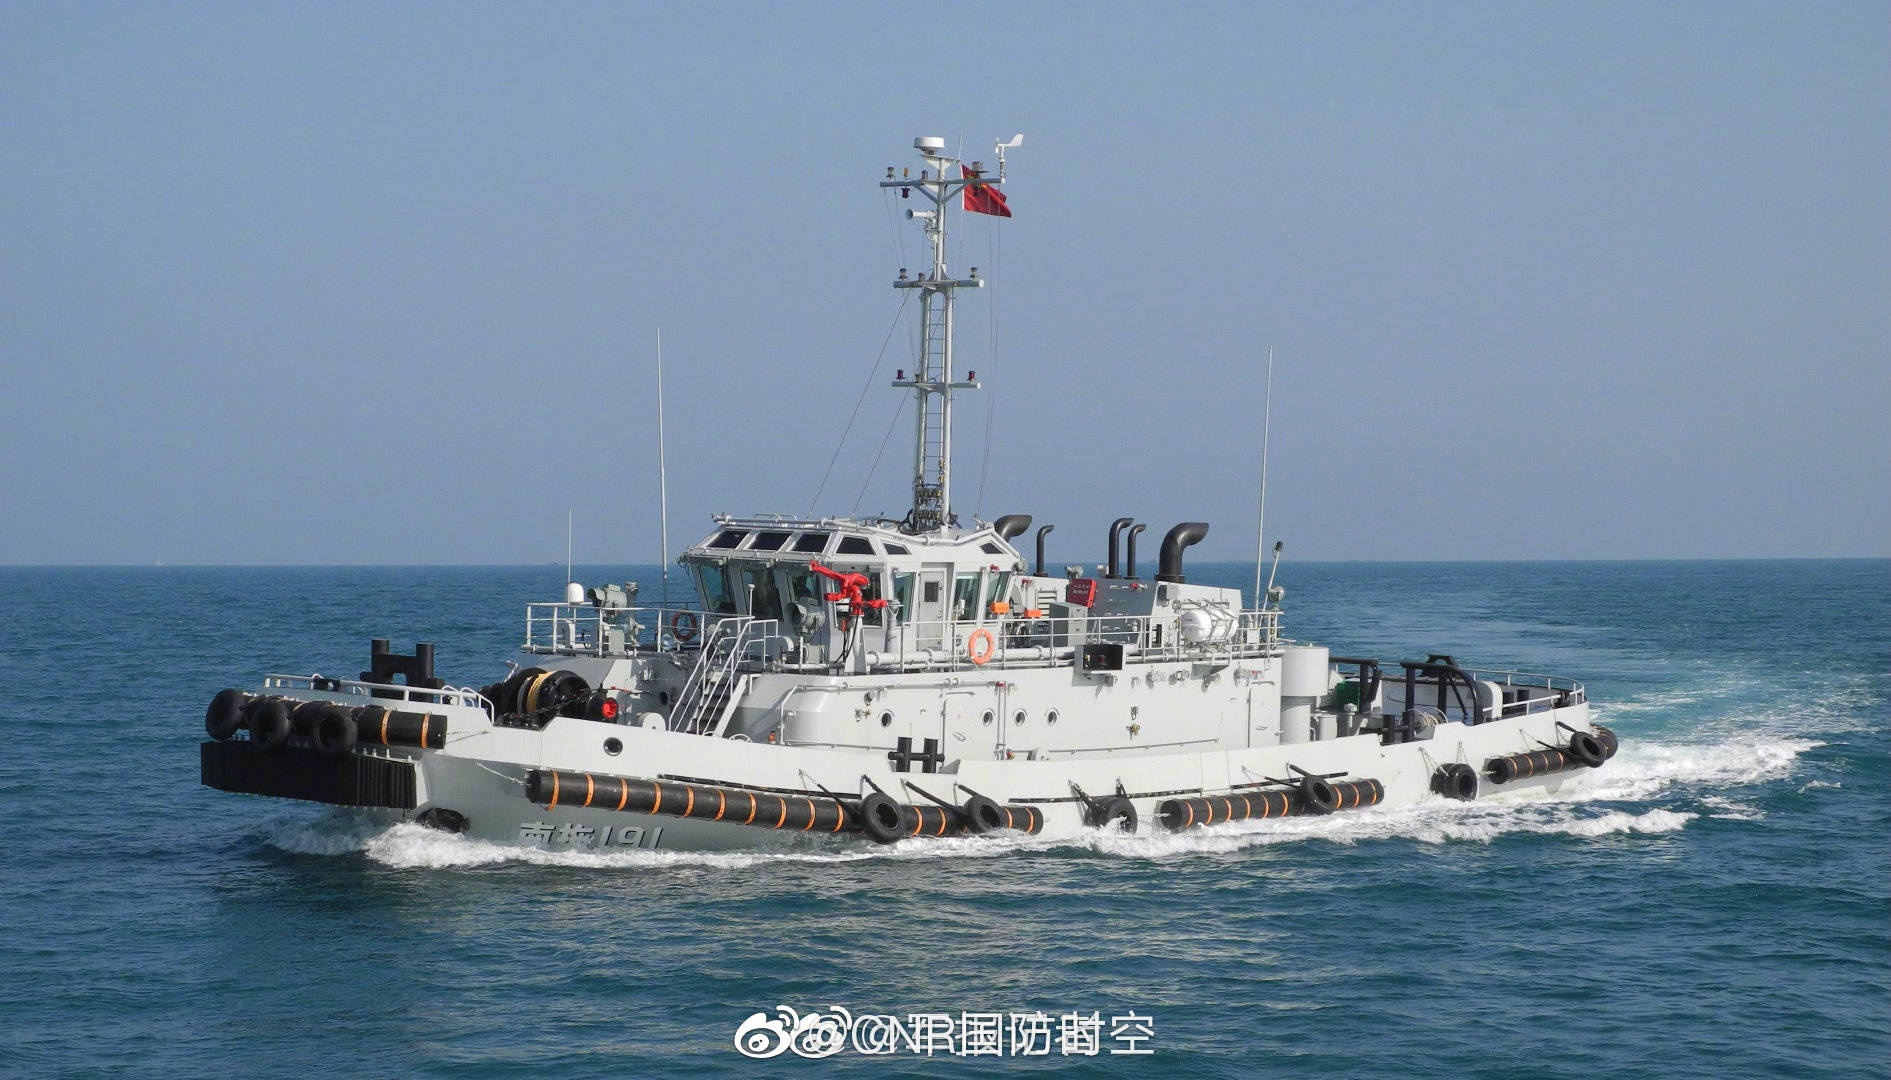otherboat: (207, 108, 1678, 890)
